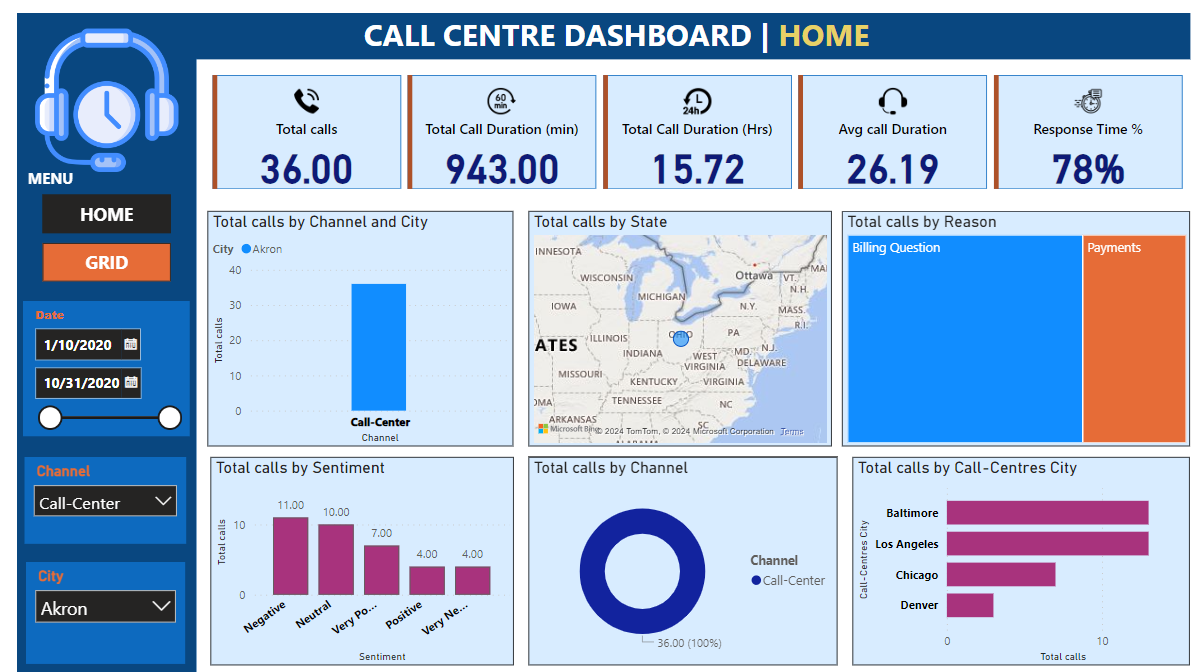

The dashboard page shown, as its layout file describes it:
{"tool":"powerbi","page":{"name":"HOME","canvas":[1280,720],"ordinal":0},"visuals":[{"type":"shape","box":[18.9,15.1,1243.5,49.1],"z":0},{"type":"shape","box":[18.9,64.3,190,655.8],"z":1000},{"type":"cardVisual","fields":{"Data":["Call Center_Call Center.Total calls","Call Center_Call Center.Total Call Duration (min)","Call Center_Call Center.Total Call Duration (Hrs)","Call Center_Call Center.Avg call Duration","Call Center_Call Center.Response Time %"]},"box":[220.9,76.3,1041.1,131.9],"z":2000},{"type":"textbox","box":[381.5,11.1,855.1,58.8],"z":3000},{"type":"columnChart","fields":{"Y":["Call Center_Call Center.Total calls"],"Series":["Call Center_Call Center.City"],"Category":["Call Center_Call Center.Channel"]},"box":[220.9,225.7,324.2,249.5],"z":4000},{"type":"map","fields":{"Category":["Call Center_Call Center.State"],"Size":["Call Center_Call Center.Total calls"]},"box":[561.1,225.7,321.1,249.5],"z":5000},{"type":"treemap","fields":{"Group":["Call Center_Call Center.Reason"],"Values":["Call Center_Call Center.Total calls"]},"box":[893.2,225.7,368.7,249.5],"z":6000},{"type":"donutChart","fields":{"Category":["Call Center_Call Center.Channel"],"Y":["Call Center_Call Center.Total calls"]},"box":[561.1,486.4,327.4,220.9],"z":7000},{"type":"columnChart","fields":{"Category":["Call Center_Call Center.Sentiment"],"Y":["Call Center_Call Center.Total calls"]},"box":[224.1,486.4,321.1,220.9],"z":8000},{"type":"barChart","fields":{"Category":["Call Center_Call Center.Call-Centres City"],"Y":["Call Center_Call Center.Total calls"]},"box":[904.4,486.4,357.6,220.9],"z":9000},{"type":"slicer","fields":{"Values":["Date table.Date"]},"box":[25.4,321.1,176.4,143],"z":10000},{"type":"slicer","fields":{"Values":["Call Center_Call Center.Channel"]},"box":[27,486.4,171.7,92.2],"z":11000},{"type":"slicer","fields":{"Values":["Call Center_Call Center.City"]},"box":[28.6,597.6,168.5,108.1],"z":12000},{"type":"image","box":[9.5,27,209.8,162.1],"z":13000},{"type":"pageNavigator","box":[46.1,208.2,136.7,92.2],"z":14000},{"type":"textbox","box":[25.4,174.8,73.1,33.4],"z":15000}]}

Visuals, with their boxes in screenshot pixels (x1, y1, x2, y2), scaled from the page's 1280x720 canvas onto the 1204x672 screenshot:
shape: (18, 14, 1187, 60)
shape: (18, 60, 196, 671)
cardVisual - Call Center_Call Center.Total calls x Call Center_Call Center.Total Call Duration (min): (208, 71, 1187, 194)
textbox: (359, 10, 1163, 65)
columnChart - Call Center_Call Center.Total calls x Call Center_Call Center.City: (208, 211, 513, 444)
map - Call Center_Call Center.State x Call Center_Call Center.Total calls: (528, 211, 830, 444)
treemap - Call Center_Call Center.Reason x Call Center_Call Center.Total calls: (840, 211, 1187, 444)
donutChart - Call Center_Call Center.Channel x Call Center_Call Center.Total calls: (528, 454, 836, 660)
columnChart - Call Center_Call Center.Sentiment x Call Center_Call Center.Total calls: (211, 454, 513, 660)
barChart - Call Center_Call Center.Call-Centres City x Call Center_Call Center.Total calls: (851, 454, 1187, 660)
slicer - Date table.Date: (24, 300, 190, 433)
slicer - Call Center_Call Center.Channel: (25, 454, 187, 540)
slicer - Call Center_Call Center.City: (27, 558, 185, 659)
image: (9, 25, 206, 176)
pageNavigator: (43, 194, 172, 280)
textbox: (24, 163, 93, 194)
